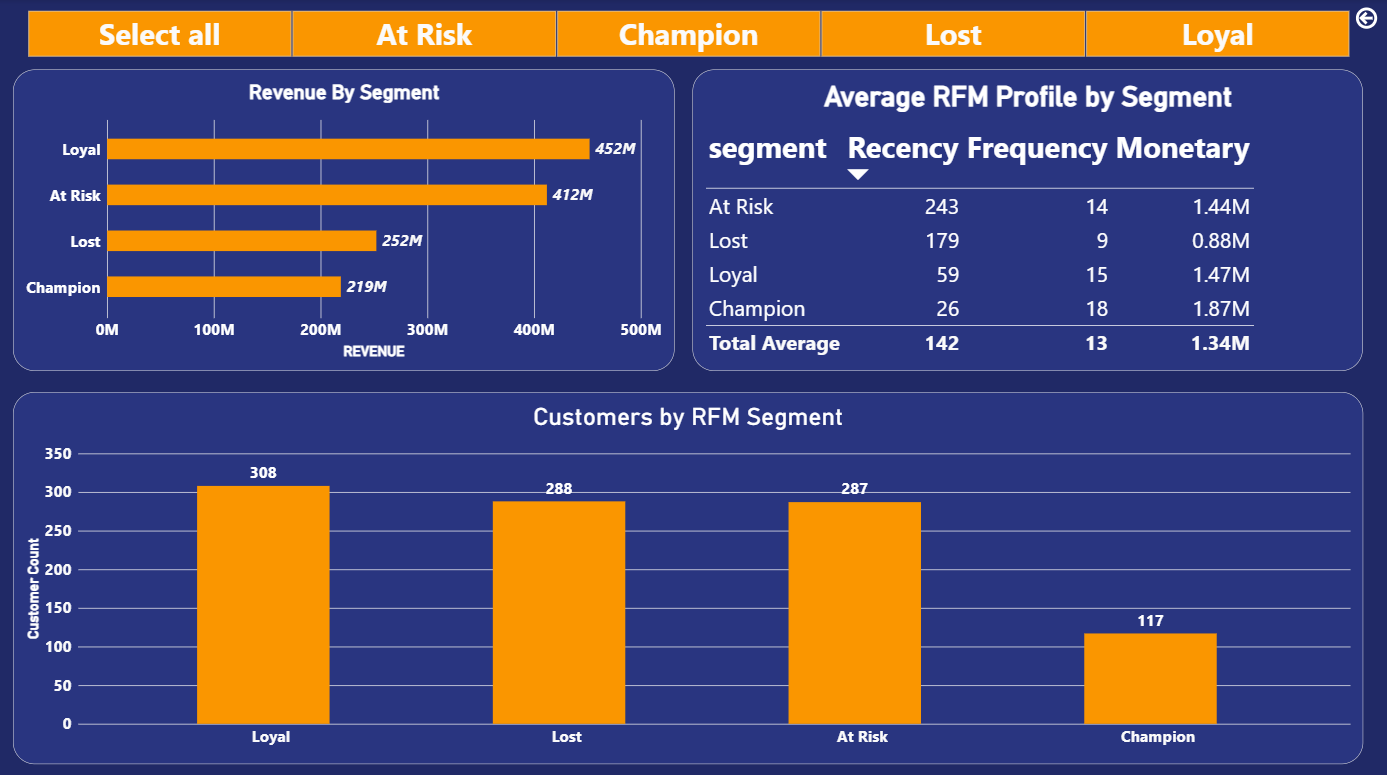

This screenshot's page, from the dashboard's own definition file:
{"tool":"powerbi","page":{"name":"RFM SEGMENT","canvas":[1920,1080],"ordinal":5},"visuals":[{"type":"clusteredColumnChart","title":"Customers by RFM Segment","fields":{"Category":["public rfm_customer_segment.segment"],"Y":["CountNonNull(public rfm_customer_segment.customer_id)"]},"box":[24.8,541.4,1859.7,512.5],"z":0},{"type":"clusteredBarChart","title":"Revenue By Segment","fields":{"Category":["public rfm_customer_segment.segment"],"Y":["Sum(public rfm_customer_segment.monetary)"]},"box":[24.8,97.1,911.3,415.3],"z":1000},{"type":"tableEx","title":"Average RFM Profile by Segment","fields":{"Values":["public rfm_customer_segment.segment","Avg(public rfm_customer_segment.recency)","Avg(public rfm_customer_segment.frequency)","Avg(public rfm_customer_segment.monetary)"]},"box":[960.9,97.1,923.7,415.3],"z":2000},{"type":"slicer","fields":{"Values":["public rfm_customer_segment.segment"]},"box":[24.8,14.5,1859.7,66.1],"z":3000},{"type":"actionButton","box":[1859.7,0,59.9,49.6],"z":3001}]}

Visuals, with their boxes in screenshot pixels (x1, y1, x2, y2), scaled from the page's 1920x1080 canvas onto the 1387x775 screenshot:
"Customers by RFM Segment" clusteredColumnChart: [18,389,1361,756]
"Revenue By Segment" clusteredBarChart: [18,70,676,368]
"Average RFM Profile by Segment" tableEx: [694,70,1361,368]
slicer - public rfm_customer_segment.segment: [18,10,1361,58]
actionButton: [1343,0,1386,36]
